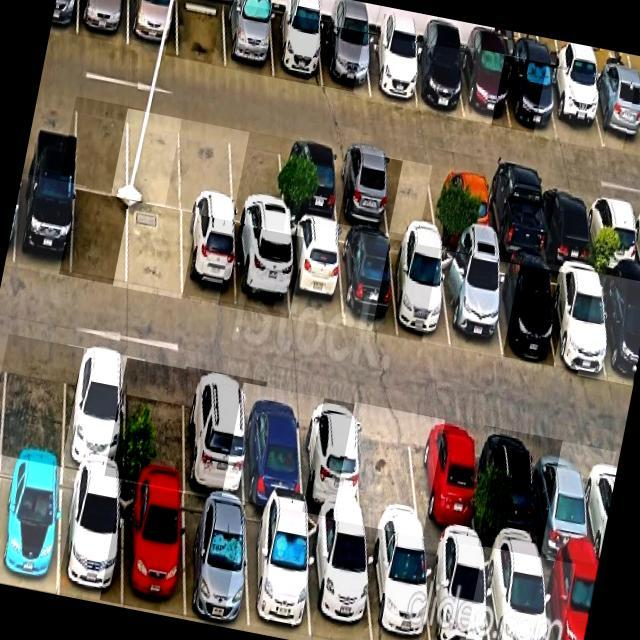empty: (355, 406, 423, 536), (2, 336, 67, 464), (125, 358, 186, 491), (127, 108, 182, 210), (231, 129, 284, 231), (72, 190, 128, 286), (74, 97, 127, 197), (181, 120, 233, 220), (128, 202, 181, 299), (382, 156, 438, 239), (177, 0, 227, 67)
occupied: (183, 493, 248, 629), (246, 506, 310, 640), (122, 481, 185, 617), (0, 458, 63, 594), (60, 469, 122, 604), (300, 394, 363, 524), (63, 345, 125, 477), (417, 415, 478, 547), (307, 516, 371, 640), (534, 437, 594, 567), (186, 370, 244, 502), (244, 383, 303, 511), (365, 530, 431, 640), (485, 426, 540, 557), (546, 265, 609, 375), (440, 251, 503, 357), (425, 538, 490, 640), (491, 260, 554, 363), (390, 239, 450, 347), (14, 174, 74, 277), (340, 230, 398, 334), (288, 221, 343, 327), (483, 549, 547, 640), (182, 213, 237, 308), (484, 175, 543, 263), (235, 225, 289, 319), (281, 139, 338, 225), (433, 166, 490, 250), (598, 274, 640, 386), (541, 558, 598, 640), (334, 148, 389, 232), (547, 67, 603, 148), (539, 184, 593, 267), (587, 192, 639, 275), (505, 56, 557, 138), (460, 48, 511, 127), (411, 43, 464, 118), (590, 75, 640, 154), (271, 12, 323, 87), (225, 1, 274, 78), (365, 34, 417, 106), (321, 25, 369, 95), (128, 0, 177, 55), (78, 0, 128, 45)
